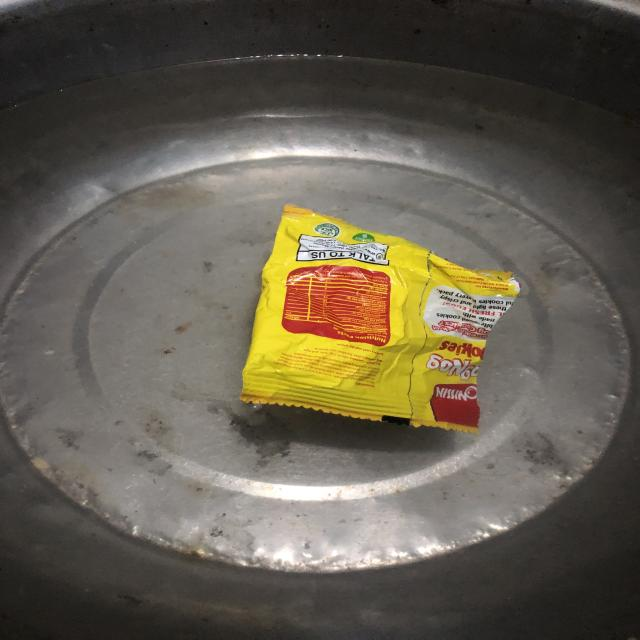Plastic Wrapper: (240, 204, 521, 434)
